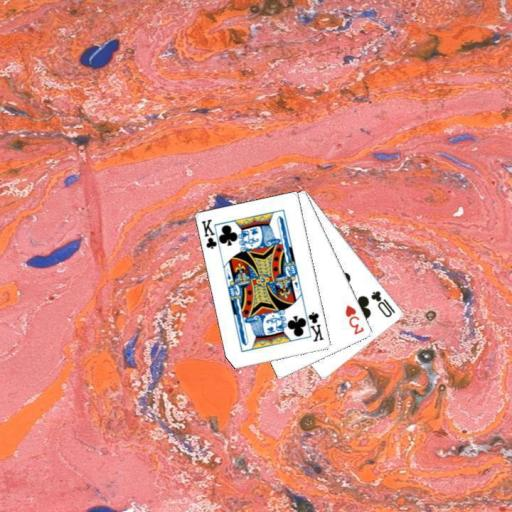card-corner: (368, 288, 396, 320), (301, 307, 325, 344), (198, 216, 222, 253), (342, 302, 366, 336)
